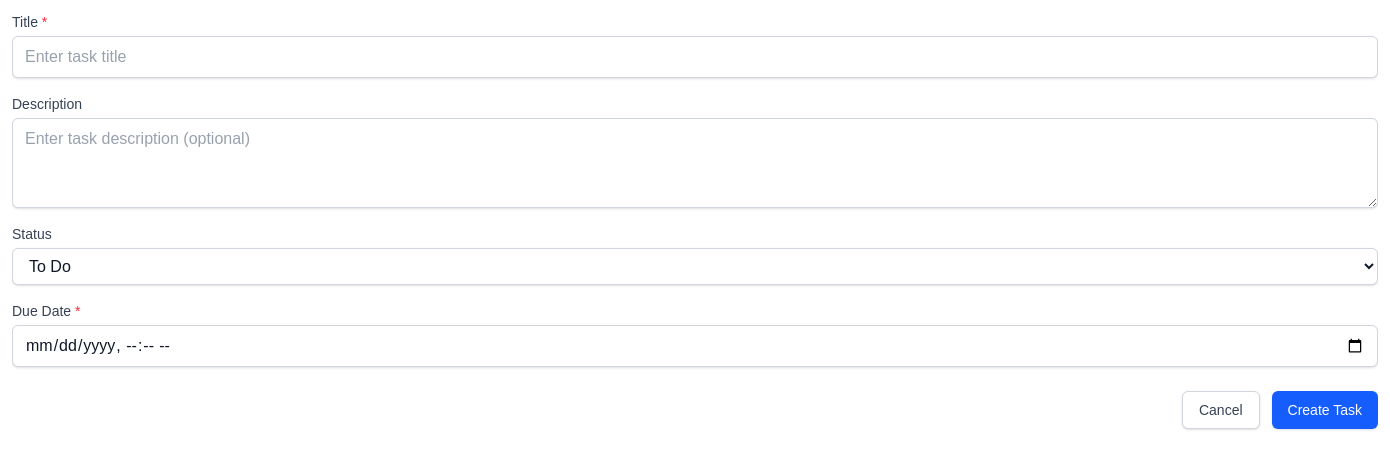
Scenario: TaskForm › rejects due date in the past
This screenshot has width=1390, height=471.
Type "Past task" into the field labelled "Title *" at (695, 57), box [12,36,1378,78]
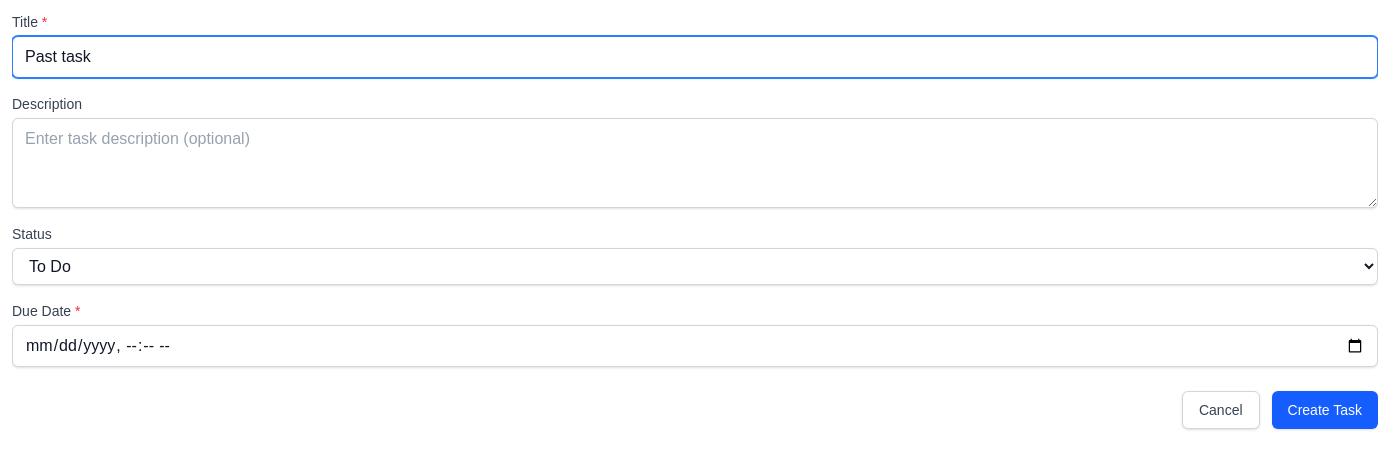
Type "2020-01-01T10:00" into the field labelled "Due Date *" at (695, 346), box [12,325,1378,367]
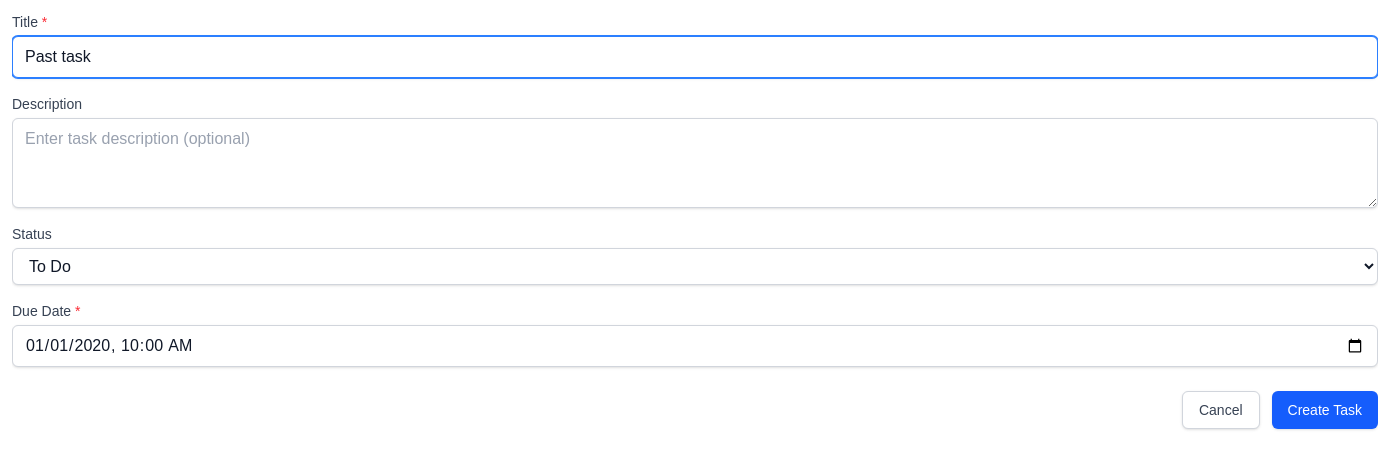
Submit via form element to ensure onSubmit fires
Submit the form
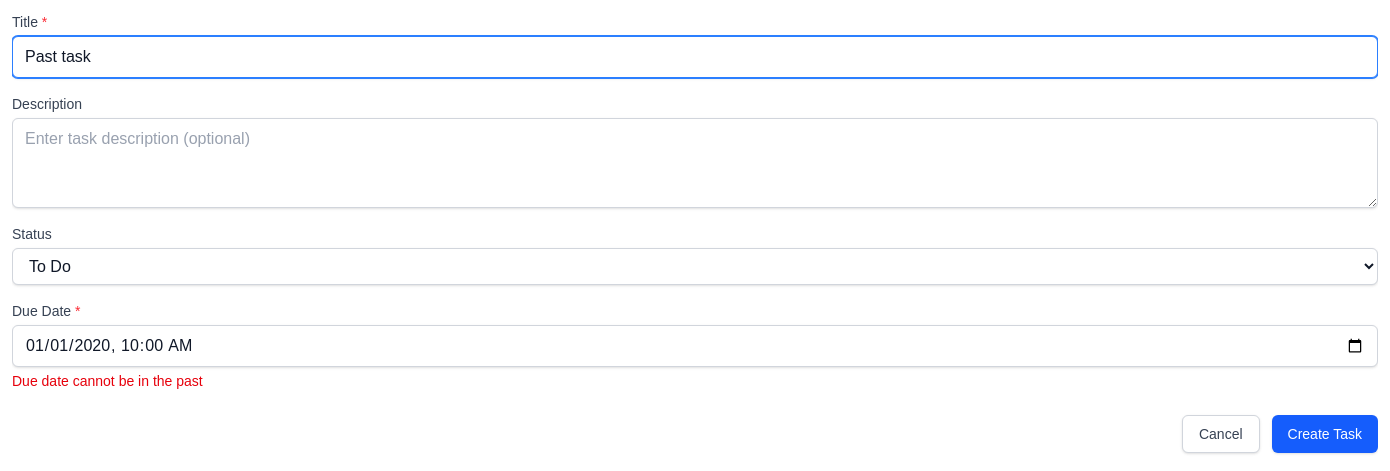
Now the text with test id "error-due-date" reads "Due date cannot be in the past", box [12,373,203,389]
